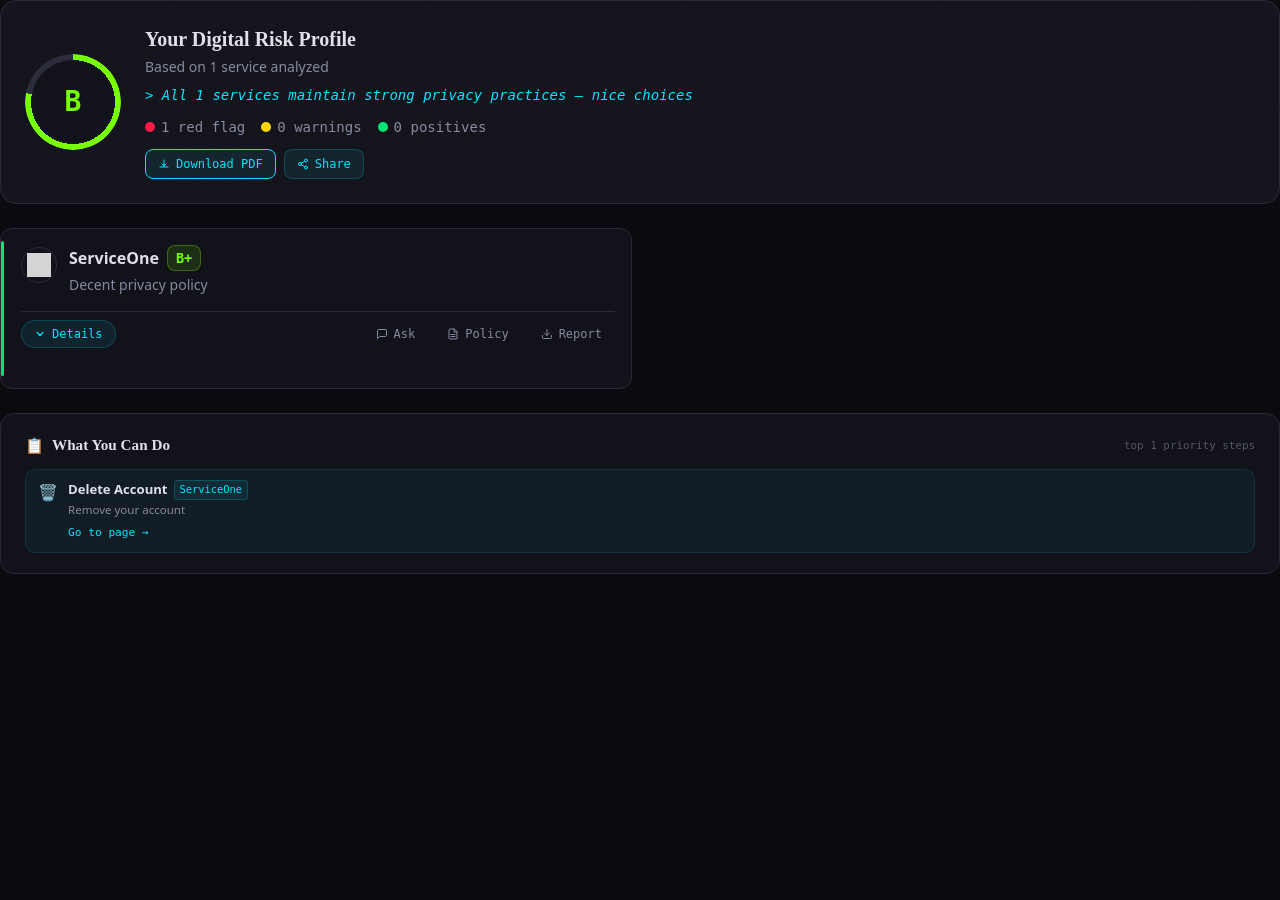
RiskProfile › shows excerpt toggle button when quote is present
The width and height of the screenshot is (1280, 900).
Click the button titled "Show detailed findings".
click(68, 334)  # box [21,320,116,348]
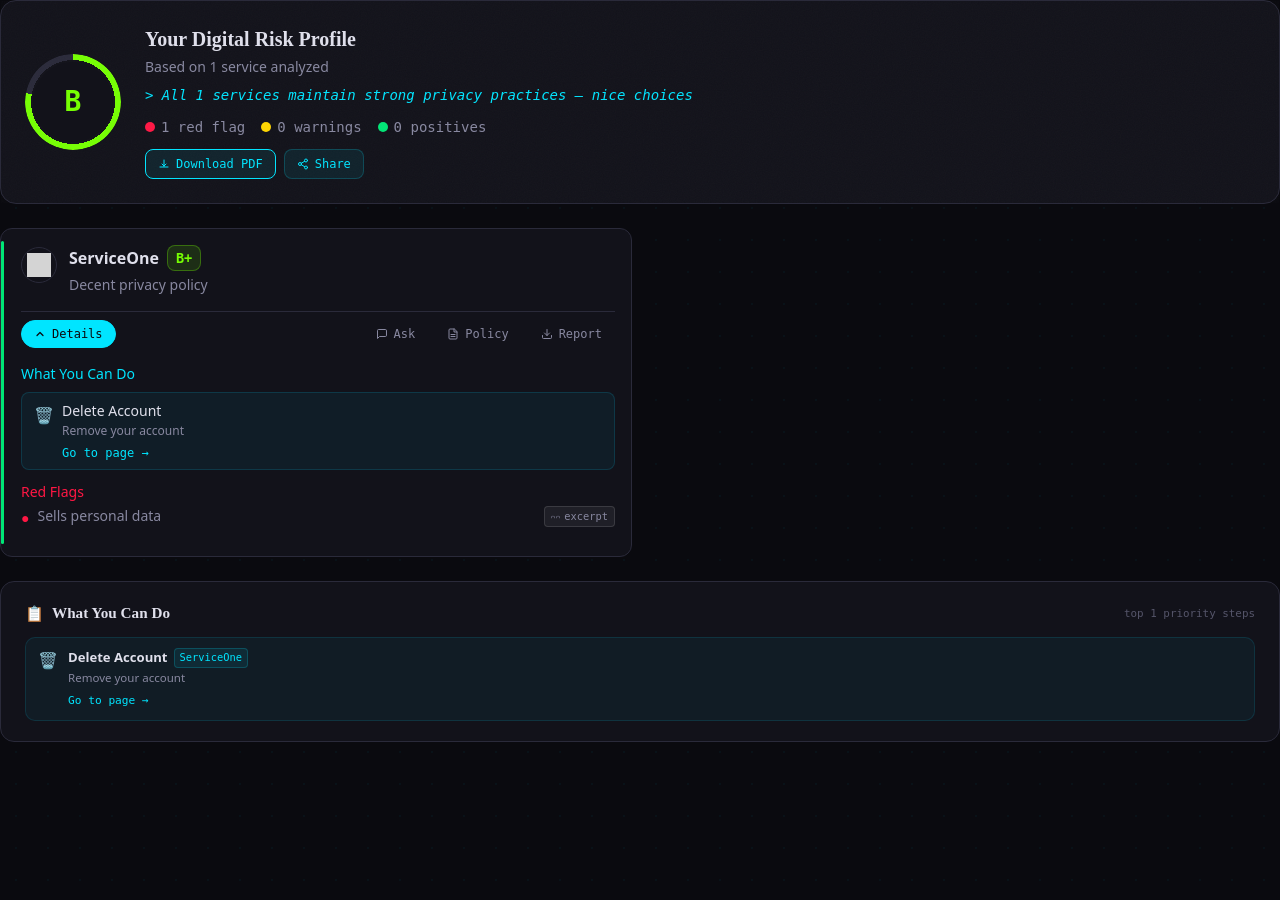
Expected: the text "Sells personal data" is shown, [38,506,161,525]
Expected: the button titled "Show policy excerpt" is shown, [544,506,615,527]
